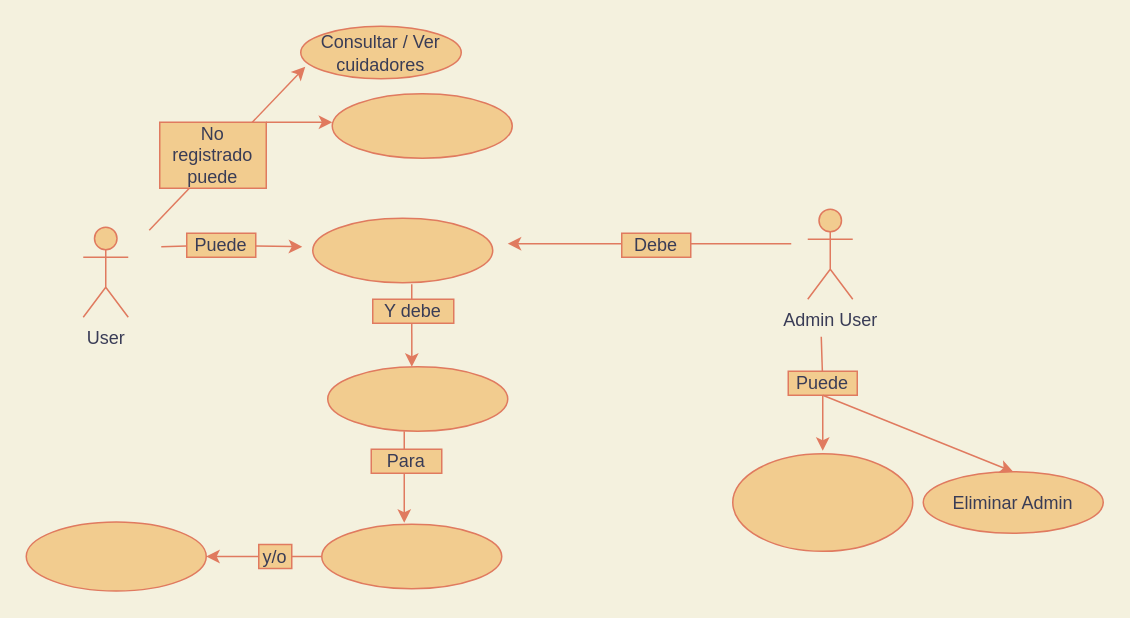
This 1130x618 diagram has some shape labels left out. Here are the shapes that lost their labels. From the top down, the centre of each, then its label:
At point 421,125: "Enviar mensaje de contacto".
At point 402,250: "Registrarse".
At point 417,398: "Loguearse".
At point 822,501: "Eliminar User, su card y sus datos".
At point 115,555: "Crear Card de cuidador".
At point 411,556: "Agregar mas datos de su perfil".
